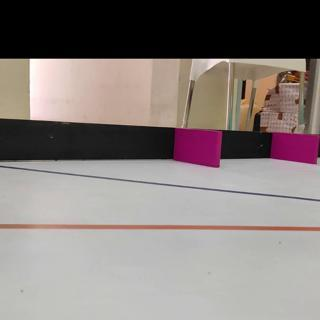xparking: (175, 130, 221, 164), (273, 133, 318, 160)
